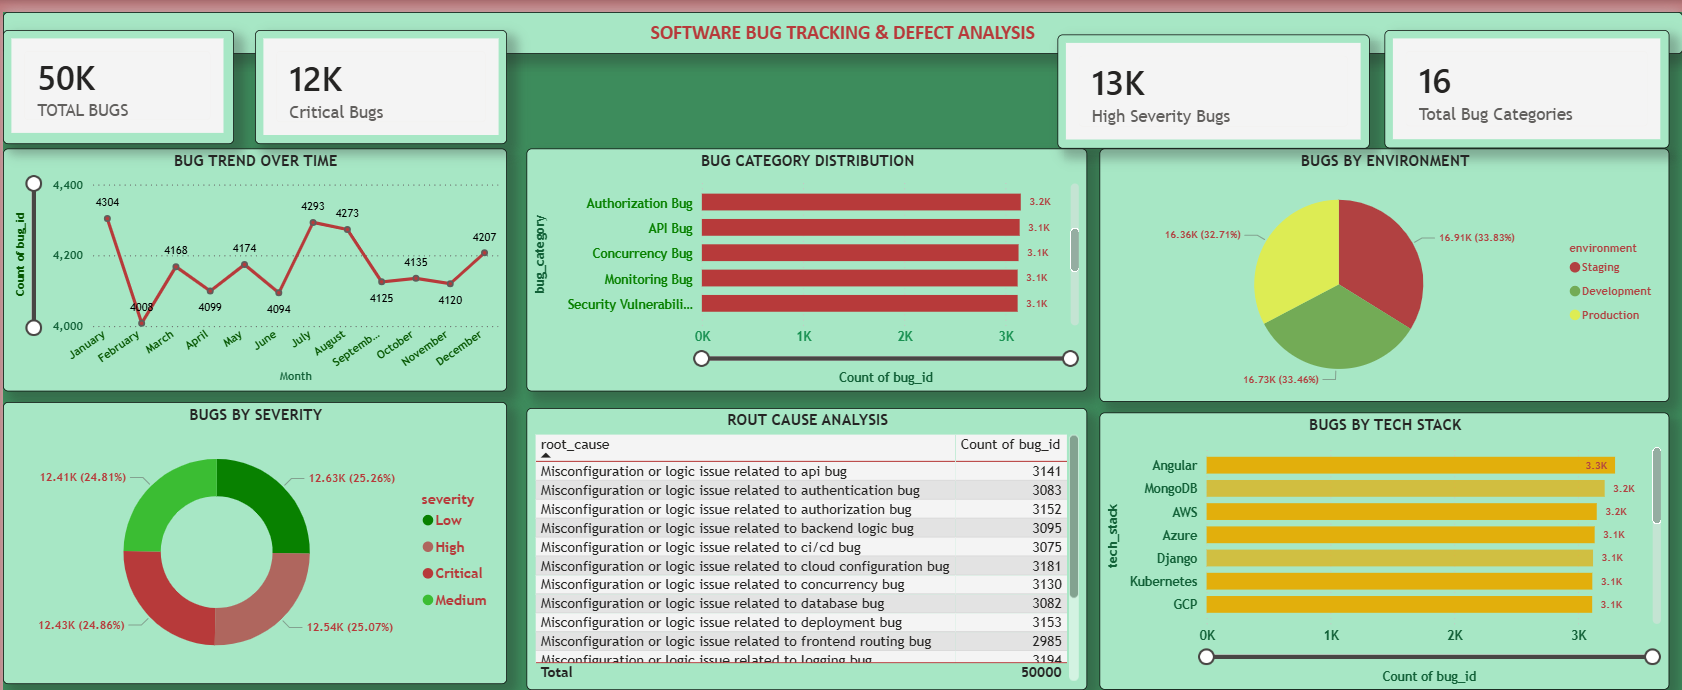

Layout of this report page (visuals, bound fields, positions):
{"tool":"powerbi","page":{"name":"Page 1","canvas":[1600,900],"ordinal":0},"visuals":[{"type":"lineChart","title":"BUG TREND OVER TIME","fields":{"Category":["Sheet1.created_at.Variation.Date Hierarchy.Month"],"Y":["CountNonNull(Sheet1.bug_id)"]},"box":[0,130,480,231.4],"z":0},{"type":"donutChart","title":"BUGS BY SEVERITY","fields":{"Category":["Sheet1.severity"],"Y":["CountNonNull(Sheet1.bug_id)"]},"box":[0,371.4,480,268.6],"z":1000},{"type":"barChart","title":"BUG CATEGORY DISTRIBUTION","fields":{"Category":["Sheet1.bug_category"],"Y":["CountNonNull(Sheet1.bug_id)"]},"box":[498.6,130,534.3,231.4],"z":2000},{"type":"pieChart","title":"BUGS BY ENVIRONMENT","fields":{"Category":["Sheet1.environment"],"Y":["CountNonNull(Sheet1.bug_id)"]},"box":[1044.3,130,542.9,241.4],"z":3000},{"type":"tableEx","title":"ROUT CAUSE ANALYSIS","fields":{"Values":["Sheet1.root_cause","CountNonNull(Sheet1.bug_id)"]},"box":[498.6,377.1,534.3,268.6],"z":4000},{"type":"barChart","title":"BUGS BY TECH STACK","fields":{"Category":["Sheet1.tech_stack"],"Y":["CountNonNull(Sheet1.bug_id)"]},"box":[1044.3,381.4,542.9,264.3],"z":5000},{"type":"textbox","box":[0,0,1600,40],"z":6000},{"type":"cardVisual","title":"TOTAL BUGS","fields":{"Data":["Sheet1.TOTAL BUGS"]},"box":[0,17.1,220,108.6],"z":7000},{"type":"cardVisual","fields":{"Data":["Sheet1.Critical Bugs"]},"box":[240,17.1,240,108.6],"z":7001},{"type":"cardVisual","fields":{"Data":["Sheet1.High Severity Bugs"]},"box":[1004.3,21.4,297.1,108.6],"z":7002},{"type":"cardVisual","fields":{"Data":["Sheet1.Total Bug Categories"]},"box":[1315.7,17.1,271.4,112.9],"z":7003}]}

Visuals, with their boxes on the page's 1600x900 design canvas (x1, y1, x2, y2). These are canvas units, not pixel positions in the 1682x690 screenshot, which may show the page scaled, cropped or inside an application window:
"BUG TREND OVER TIME" lineChart: Rect(0, 130, 480, 361)
"BUGS BY SEVERITY" donutChart: Rect(0, 371, 480, 640)
"BUG CATEGORY DISTRIBUTION" barChart: Rect(499, 130, 1033, 361)
"BUGS BY ENVIRONMENT" pieChart: Rect(1044, 130, 1587, 371)
"ROUT CAUSE ANALYSIS" tableEx: Rect(499, 377, 1033, 646)
"BUGS BY TECH STACK" barChart: Rect(1044, 381, 1587, 646)
textbox: Rect(0, 0, 1600, 40)
"TOTAL BUGS" cardVisual: Rect(0, 17, 220, 126)
cardVisual - Sheet1.Critical Bugs: Rect(240, 17, 480, 126)
cardVisual - Sheet1.High Severity Bugs: Rect(1004, 21, 1301, 130)
cardVisual - Sheet1.Total Bug Categories: Rect(1316, 17, 1587, 130)
